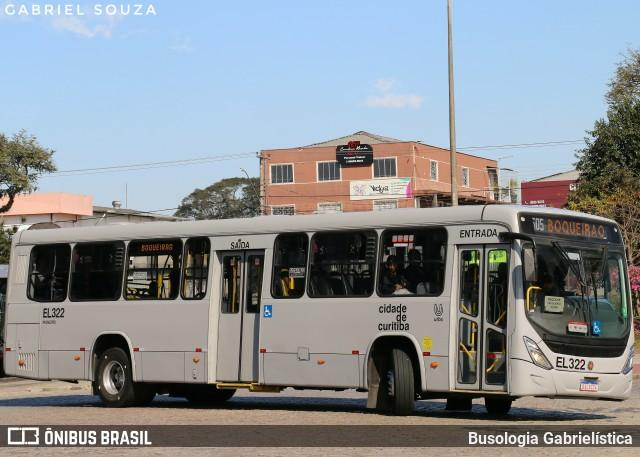BOQUEIRAO: (545, 216, 608, 240)
